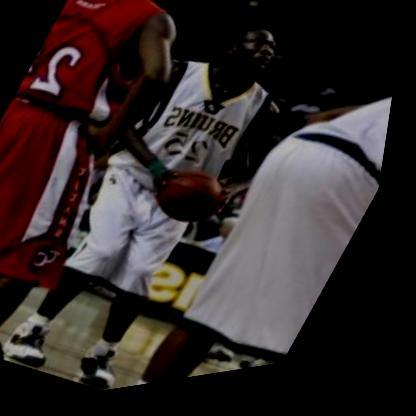basketball: (149, 161, 246, 246)
